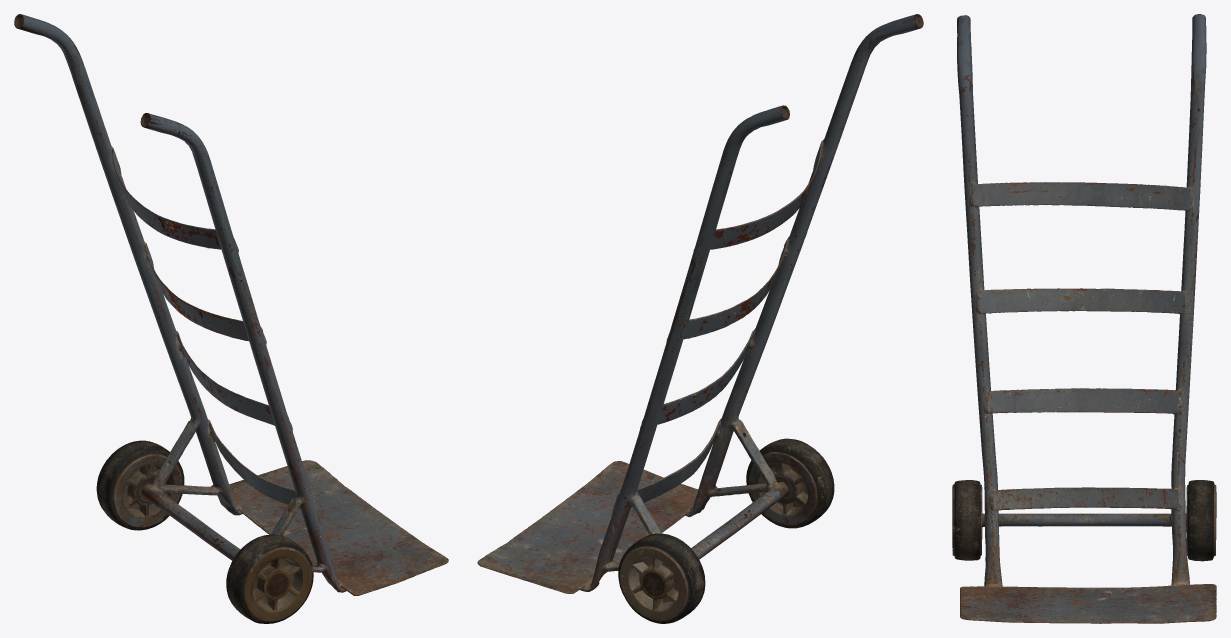
File: 3d_scan_quixel_megascans_metal_hand_truck.glb
3 renders of one model, left to right at view 1: azimuth 30°, elevation 25°; view 2: azimuth 150°, elevation 25°; view 3: azimuth 270°, elevation 25°, orthographic. The views are drawn at different scales.
Parts seen in each view (by area): view 1: Object_2, Object_3; view 2: Object_2, Object_3; view 3: Object_2, Object_3.
Part boxes in pixels (x1=…): Object_2: x1=14, y1=14, x2=448, y2=595; Object_3: x1=226, y1=534, x2=313, y2=623; Object_2: x1=477, y1=14, x2=923, y2=623; Object_3: x1=746, y1=438, x2=834, y2=528; Object_2: x1=957, y1=14, x2=1216, y2=623; Object_3: x1=952, y1=480, x2=982, y2=560.
Bounding box in the file's own units: 0.6288 × 1.05 × 0.515.
Materials: 1 (1 with a texture image).
